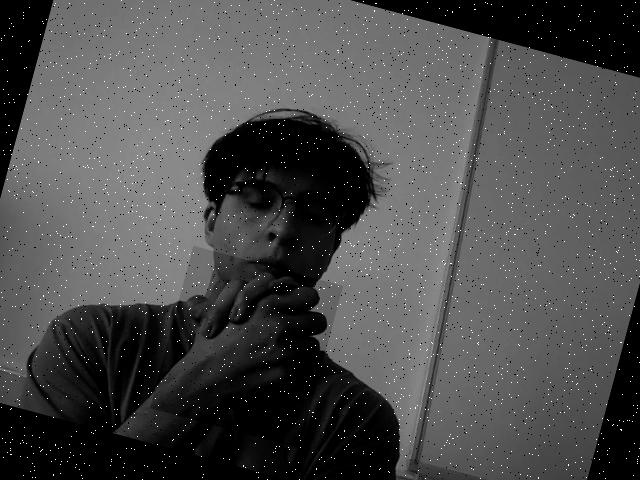friend: (155, 269, 331, 426)
